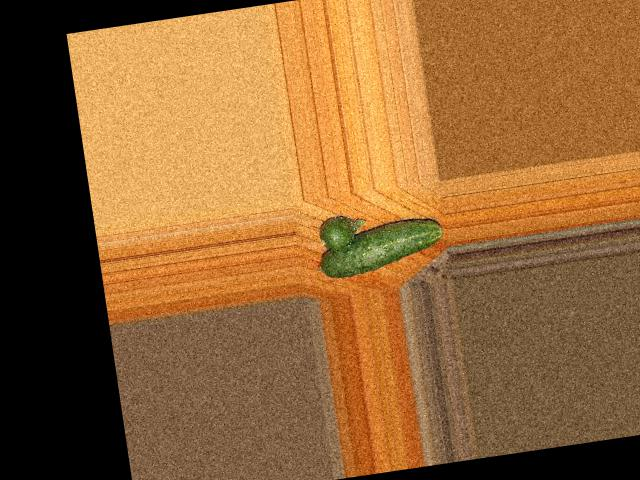cucumber: (315, 215, 447, 279)
